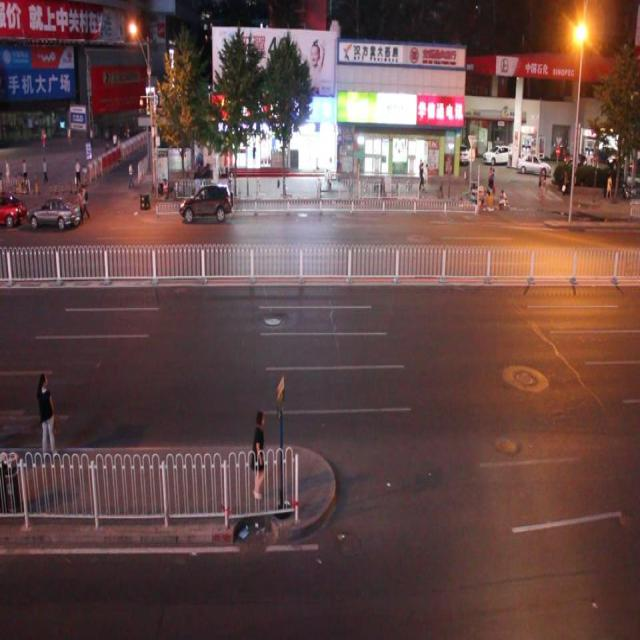car: (180, 177, 234, 221), (28, 191, 83, 231)
